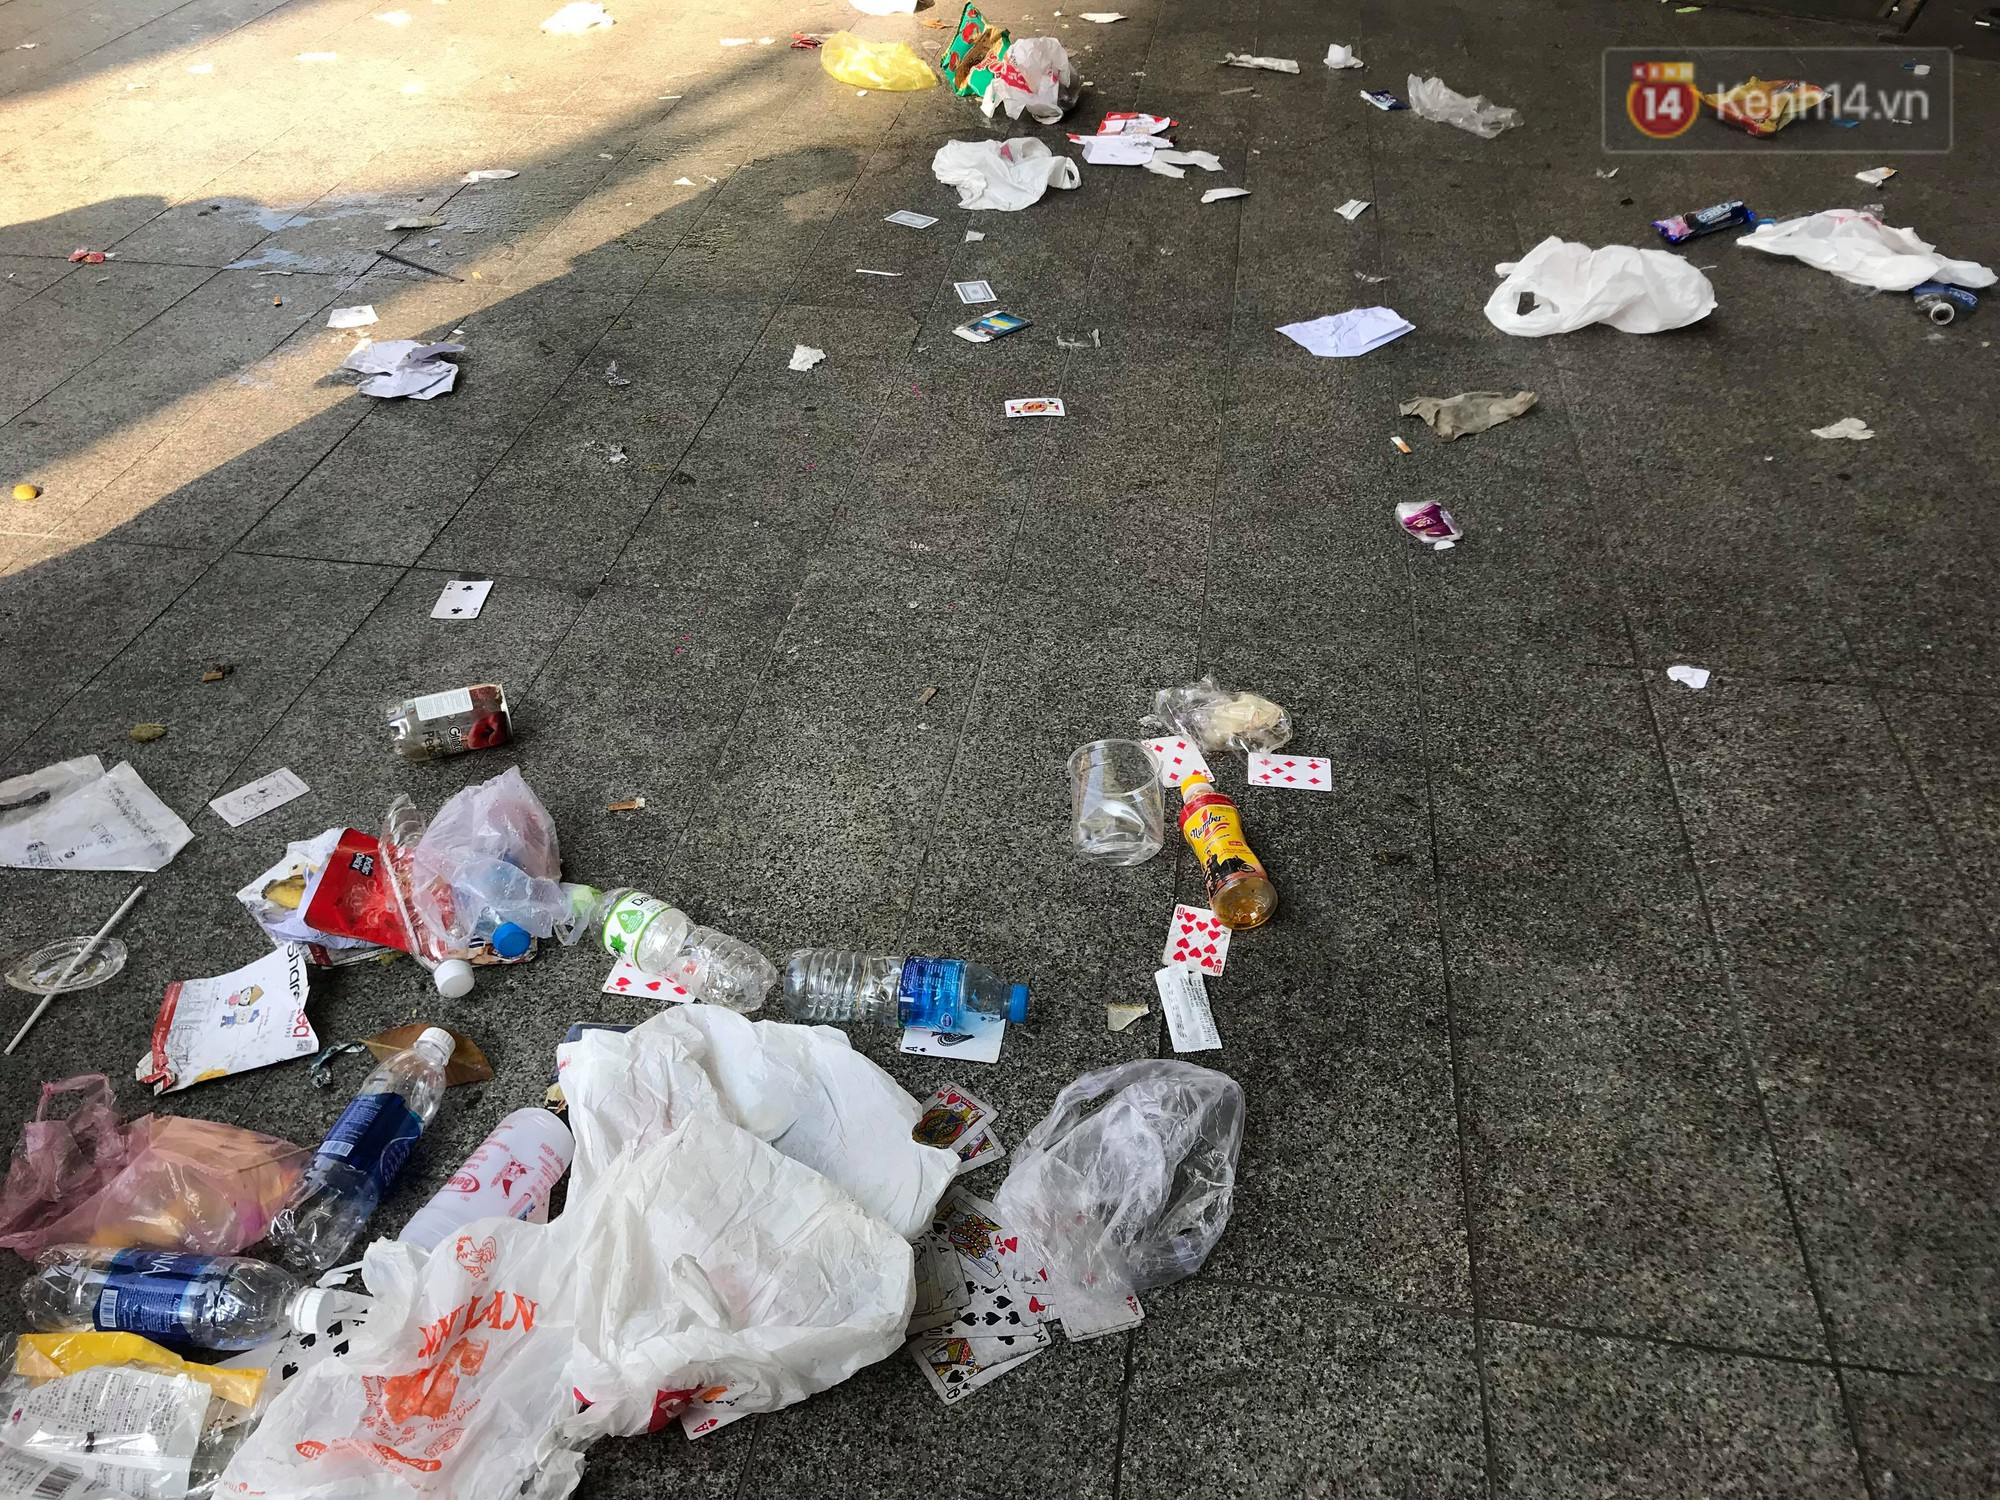plastic bag: (6, 659, 1317, 1500), (794, 2, 1252, 247), (1483, 232, 1721, 347), (1734, 199, 1995, 303), (1400, 65, 1524, 142)
